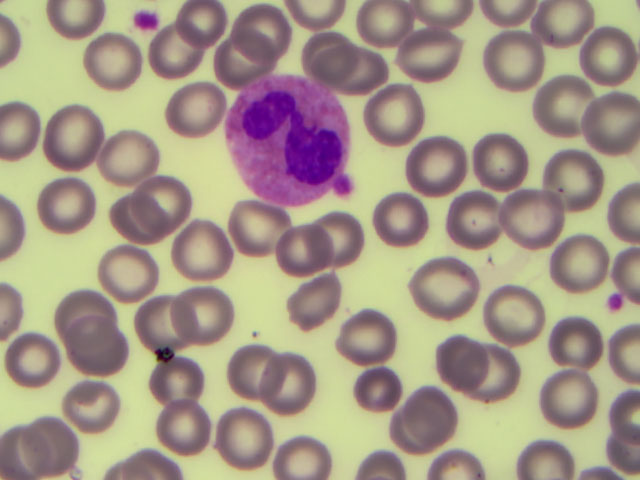Platelets: (130, 6, 160, 32), (606, 290, 624, 311)
RBC: (45, 104, 104, 160), (273, 424, 332, 480), (82, 31, 141, 86), (42, 177, 101, 232), (97, 125, 156, 180), (100, 195, 159, 250), (143, 173, 202, 228), (173, 215, 232, 270), (102, 244, 161, 299), (54, 275, 113, 330), (62, 314, 121, 369), (8, 335, 67, 390), (53, 380, 112, 435), (25, 420, 84, 475), (165, 396, 224, 451), (145, 357, 204, 412), (130, 299, 189, 354), (182, 290, 241, 345), (231, 202, 290, 257), (276, 218, 335, 273), (306, 208, 365, 263), (294, 276, 353, 331), (338, 308, 397, 363), (347, 357, 406, 412), (394, 391, 453, 446), (209, 408, 268, 463), (265, 361, 324, 416), (227, 339, 286, 394), (486, 290, 545, 345), (467, 346, 526, 401), (426, 323, 485, 378), (419, 258, 478, 313), (375, 195, 434, 250), (401, 132, 460, 187), (366, 77, 425, 132), (327, 46, 386, 101), (299, 33, 358, 88), (243, 8, 302, 63), (211, 32, 270, 87), (175, 76, 234, 131), (151, 28, 210, 83), (398, 28, 457, 83), (485, 32, 544, 87), (540, 3, 599, 58), (570, 26, 629, 81), (551, 77, 610, 132), (581, 96, 640, 151), (555, 148, 614, 203), (501, 191, 560, 246), (460, 191, 519, 246), (469, 130, 528, 185), (542, 239, 601, 294), (553, 315, 612, 370), (547, 363, 606, 418), (1, 108, 59, 163), (167, 1, 226, 55), (356, 1, 415, 55), (513, 432, 576, 480)
WBC: (225, 72, 354, 203)
